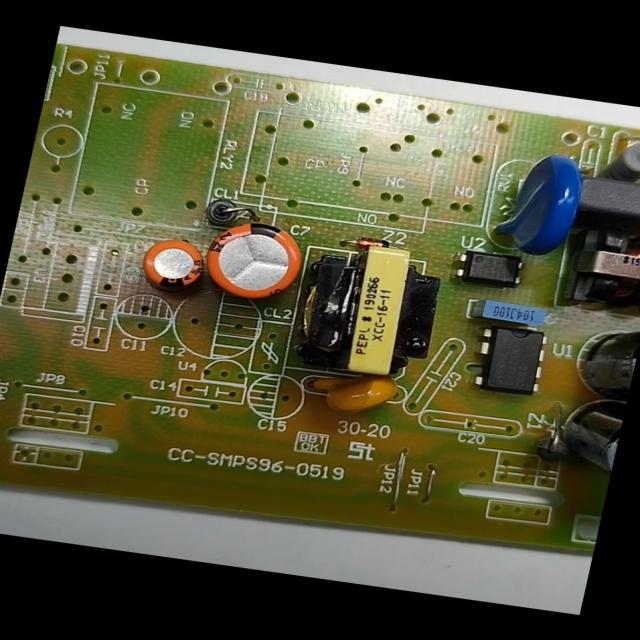Cap1: (197, 210, 320, 304)
Cap2: (136, 232, 212, 294)
Cap3: (568, 310, 639, 400)
Cap4: (553, 398, 625, 488)
MOSFET: (470, 321, 554, 397)
Mov: (486, 145, 590, 258)
Resistor: (595, 131, 639, 187)
Transformer: (284, 238, 450, 386), (554, 212, 639, 317)
